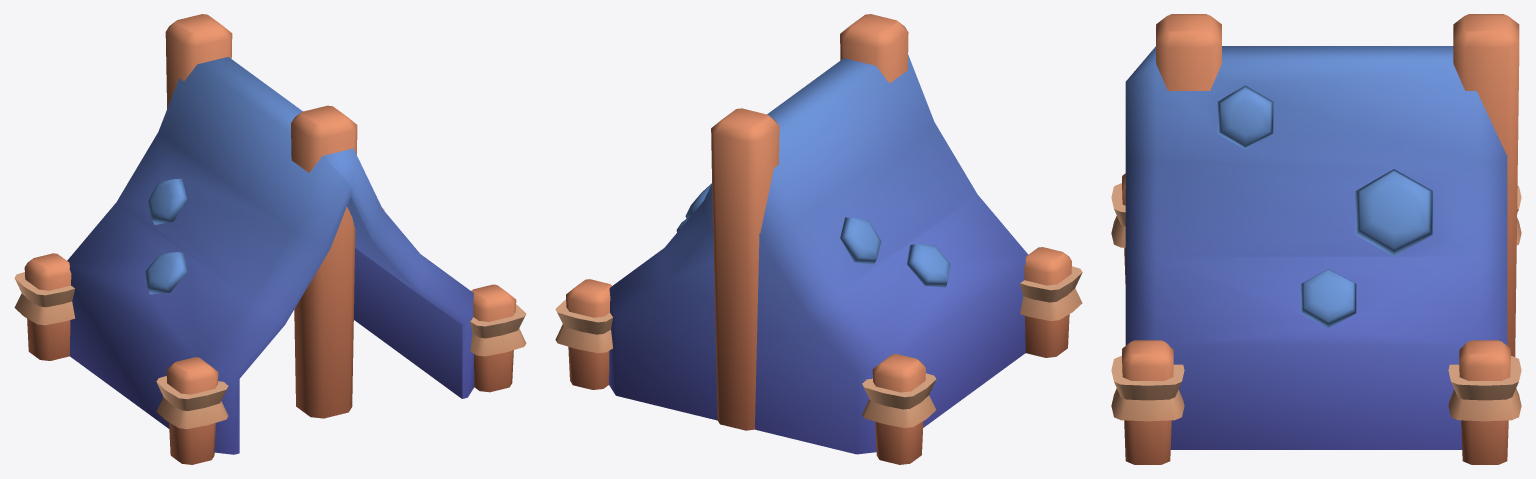
File: forest_tent.obj
3 renders of one model, left to right at view 1: azimuth 30°, elevation 25°; view 2: azimuth 150°, elevation 25°; view 3: azimuth 270°, elevation 25°, orthographic. The views are drawn at different scales.
Visible parts, largest first — view 1: tent; view 2: tent; view 3: tent.
Part boxes in pixels (bbox=[...]): tent: bbox=[14, 14, 526, 464]; tent: bbox=[555, 14, 1082, 464]; tent: bbox=[1111, 14, 1521, 464].
Size of the model in its own units: 1.26 by 1 by 1.07.
Materials: 1 (1 with a texture image).
